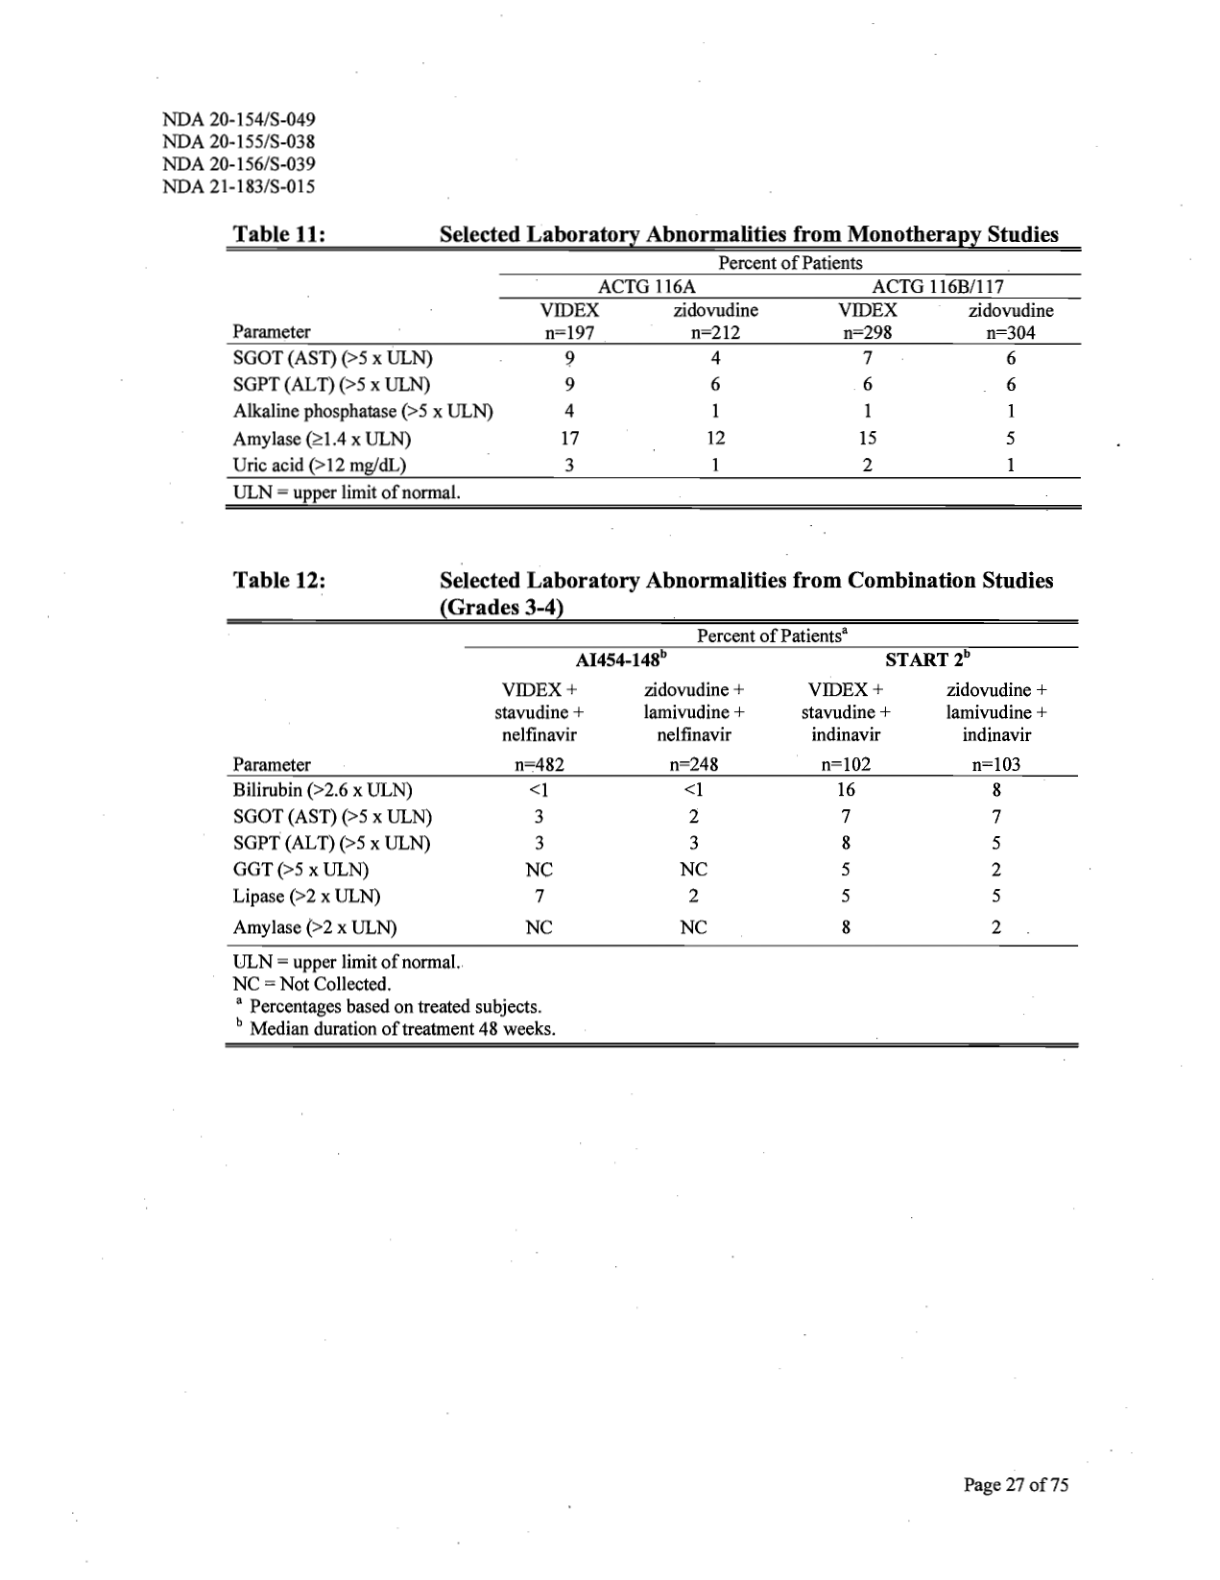partial_lined_merged_cells: (226, 616, 1082, 948), (226, 243, 1084, 509)
